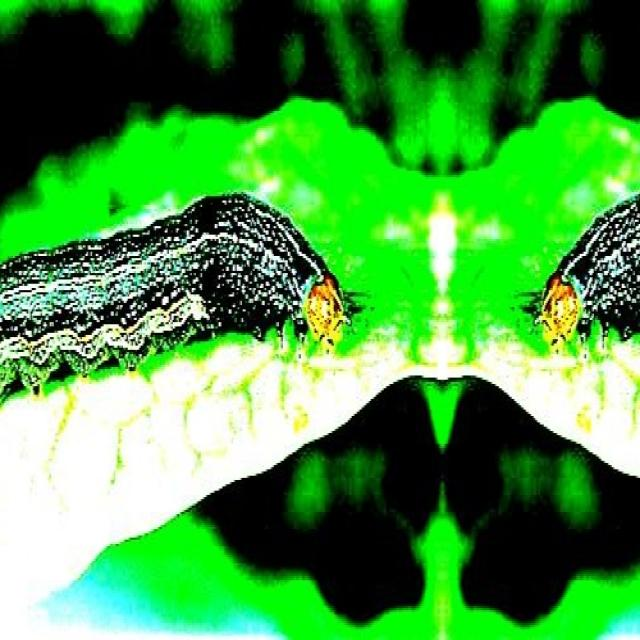Armyworm: (1, 164, 376, 411), (516, 162, 640, 399)
